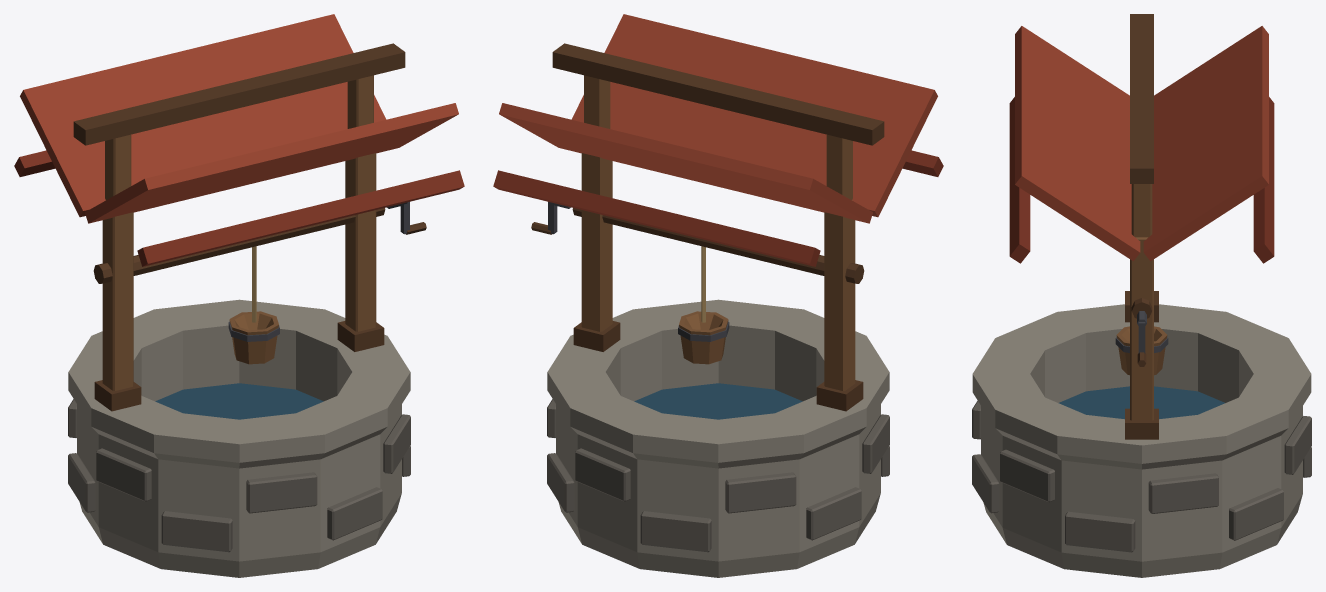
File: town_well.glb
3 renders of one model, left to right at view 1: azimuth 30°, elevation 25°; view 2: azimuth 150°, elevation 25°; view 3: azimuth 270°, elevation 25°, orthographic.
Parts seen in each view (by area): view 1: town_well; view 2: town_well; view 3: town_well.
Part boxes in pixels (bbox=[...]): town_well: bbox=[14, 14, 464, 577]; town_well: bbox=[493, 14, 943, 577]; town_well: bbox=[972, 14, 1311, 577].
Size of the model in its own units: 2.33 by 2.74 by 2.01.
